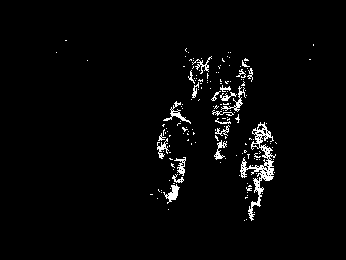person: (240, 122, 277, 221), (158, 101, 194, 202), (213, 82, 237, 160), (238, 56, 254, 100), (190, 59, 203, 97)
